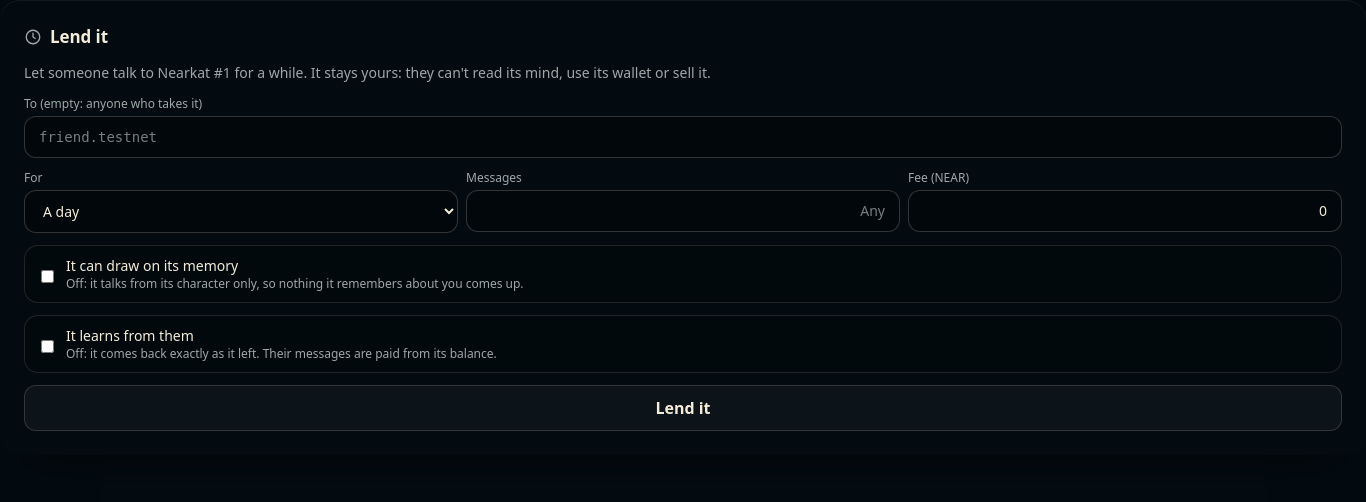
LendPanel › lends to someone for a day, a few messages, without memory or learning by default
Type "bob.testnet" into the field named "Account to lend it to" at [683, 137], box [24,116,1342,158]
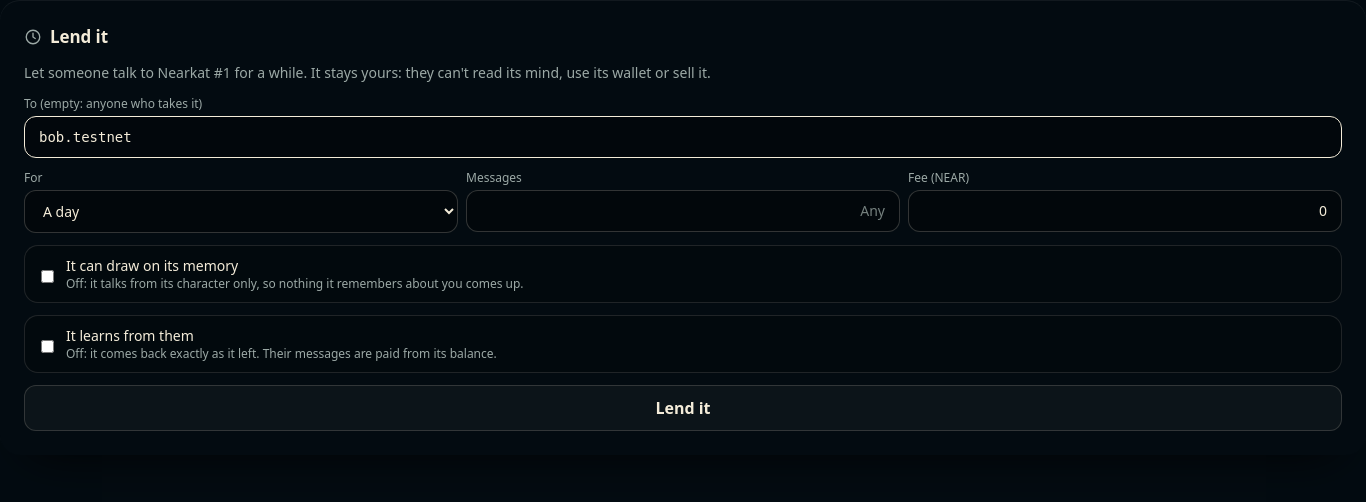
Type "3" into the field named "Messages they may send" at [683, 211], box [466,190,900,232]
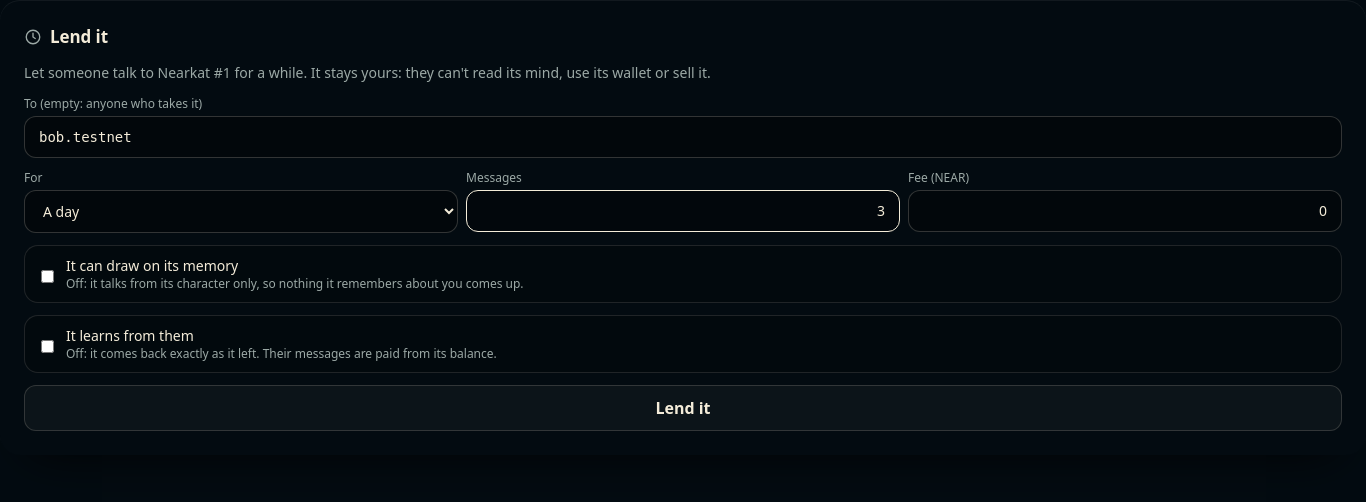
Click the button "Lend it" at [683, 408], box [24,385,1342,431]
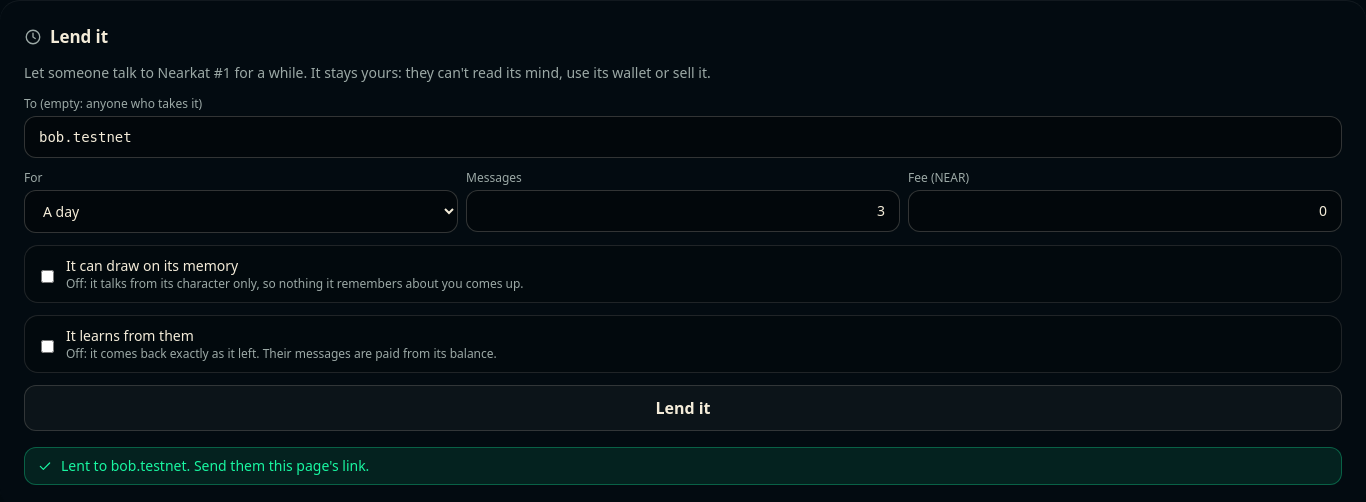
Result: the text "Lent to bob.testnet. Send them this page's link." is shown at [61,456,369,476]
